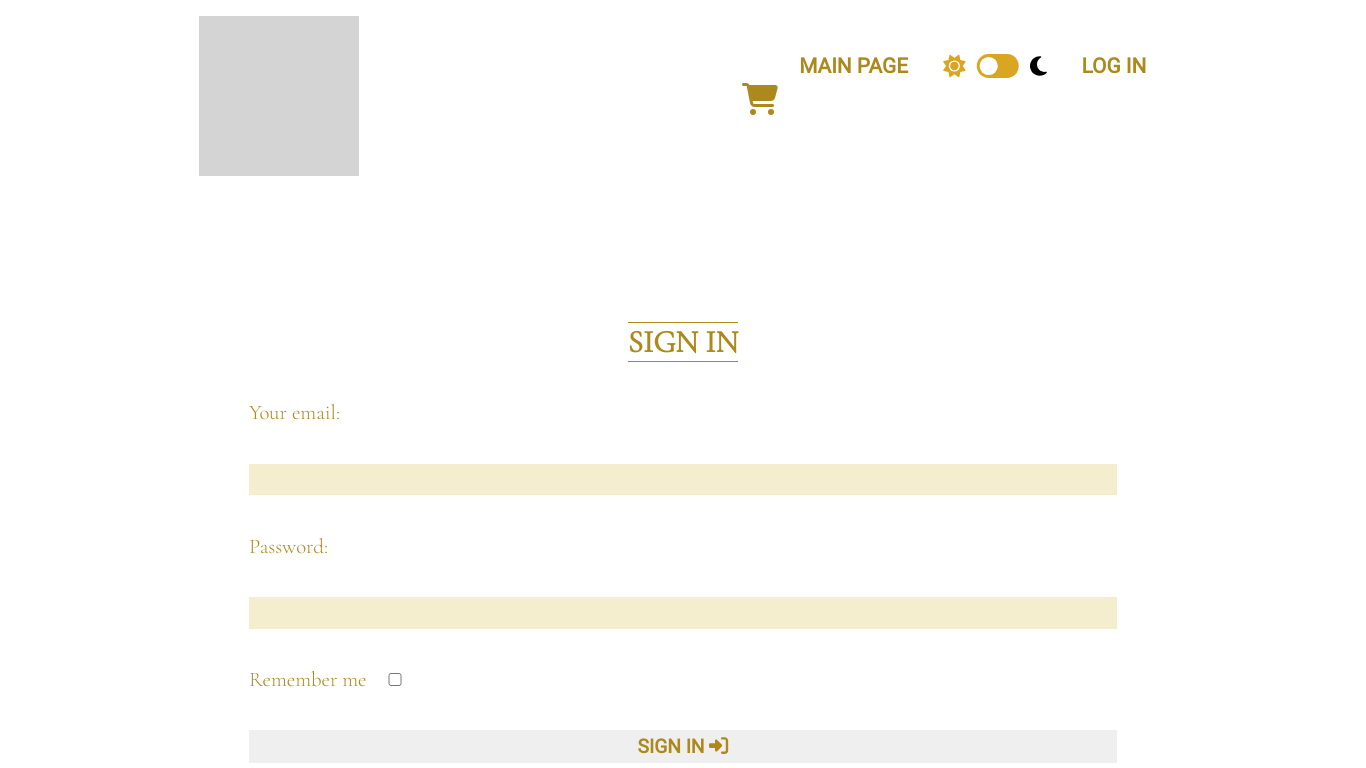
Test: Log in component › displays password error message for invalid password
Trigger an invalid password input
Type "validemail@examples.com" into the field labelled "Your email:" at (683, 479), box [249,464,1117,495]
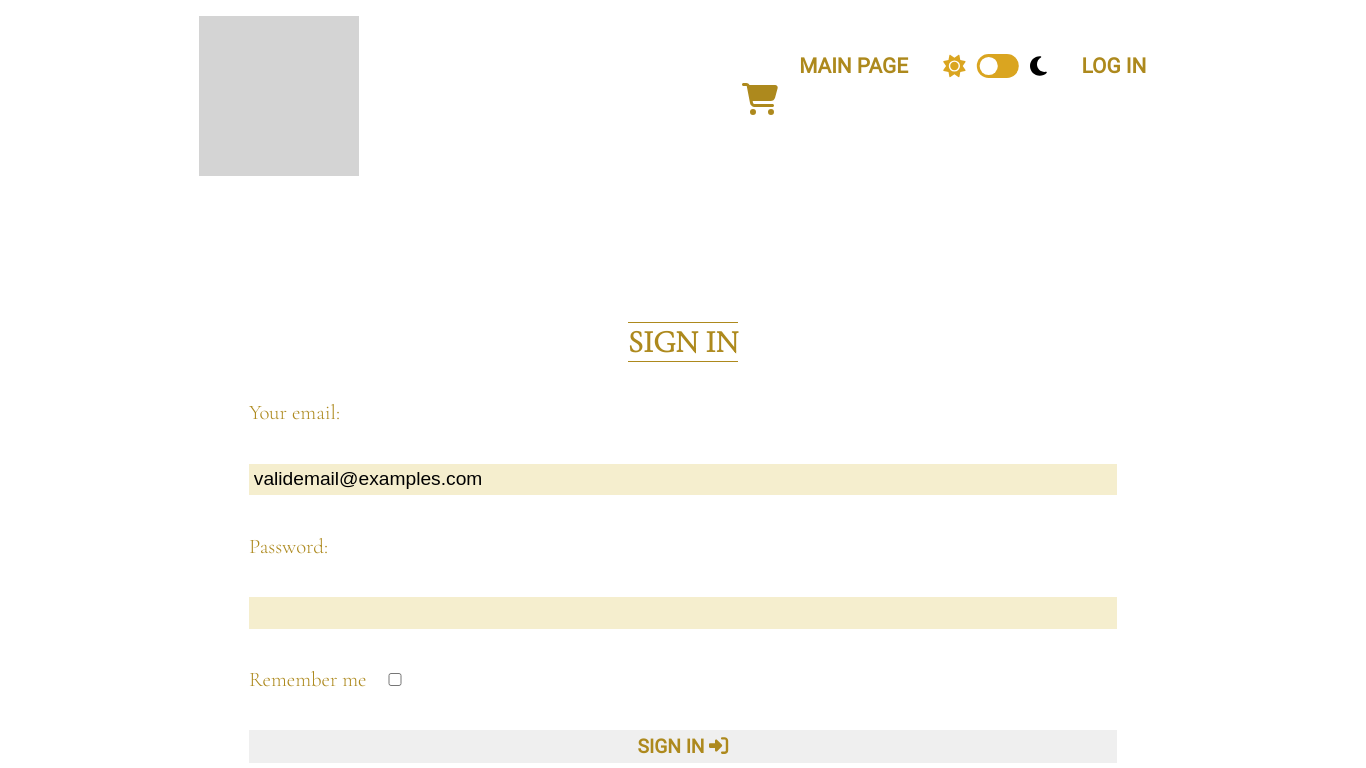
Type "wrongpassword" into the password field labelled "Password:" at (683, 613), box [249,597,1117,629]
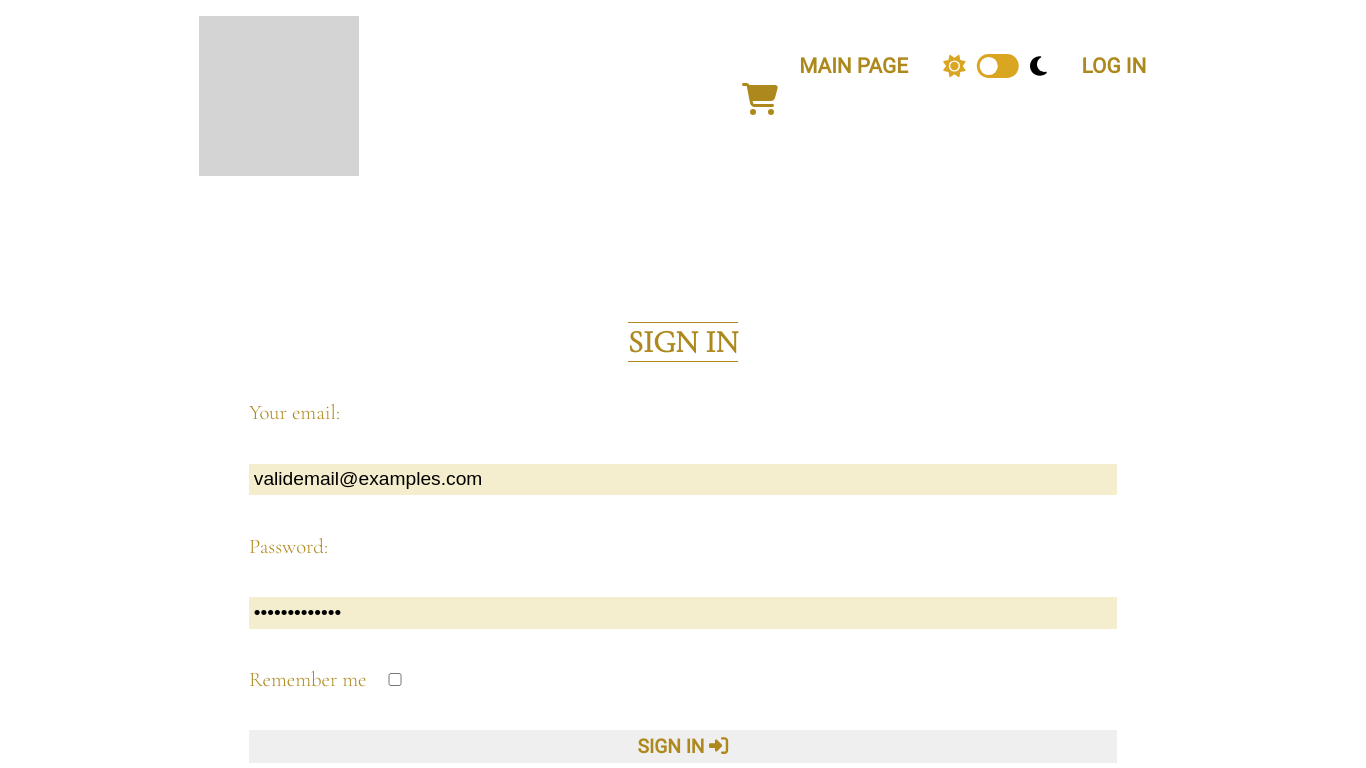
Click the button "Sign in" at (683, 747), box [249,730,1117,763]
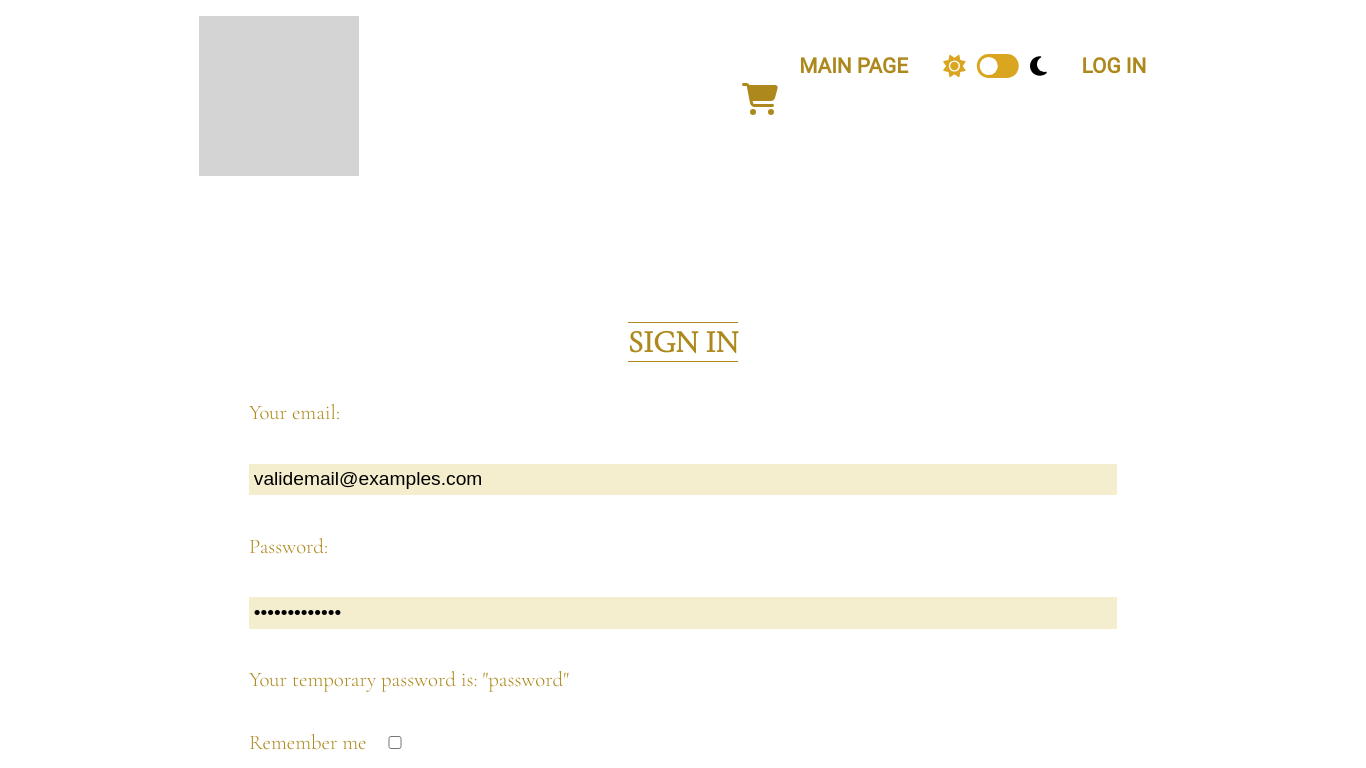
Expected: the text "Your temporary password is: \"password\"" is shown, [249,667,569,692]
